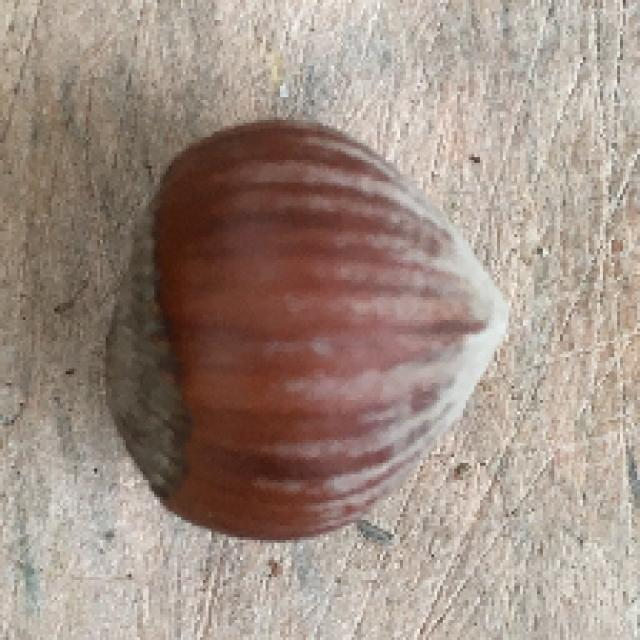qualityHazelnut: (97, 108, 516, 540)
